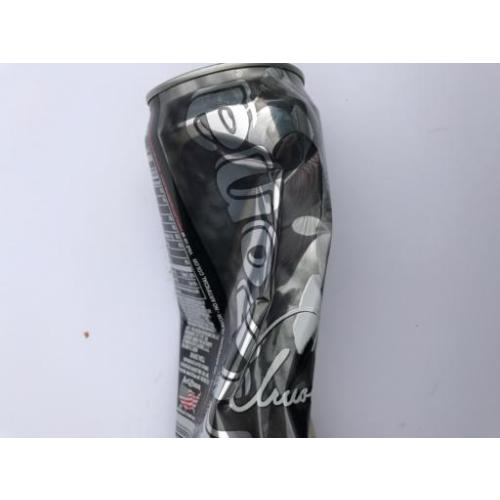metal: (146, 62, 331, 438)
